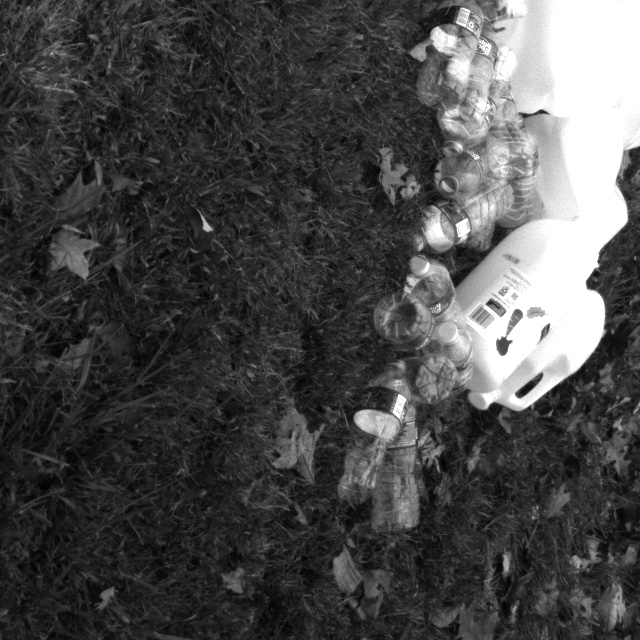bottle: (333, 363, 416, 508), (403, 175, 522, 259), (407, 247, 475, 390), (437, 6, 504, 147), (373, 372, 427, 534), (417, 0, 488, 114), (423, 129, 518, 200)
can: (438, 213, 605, 394), (463, 277, 611, 416), (498, 0, 616, 122), (519, 120, 631, 226)
